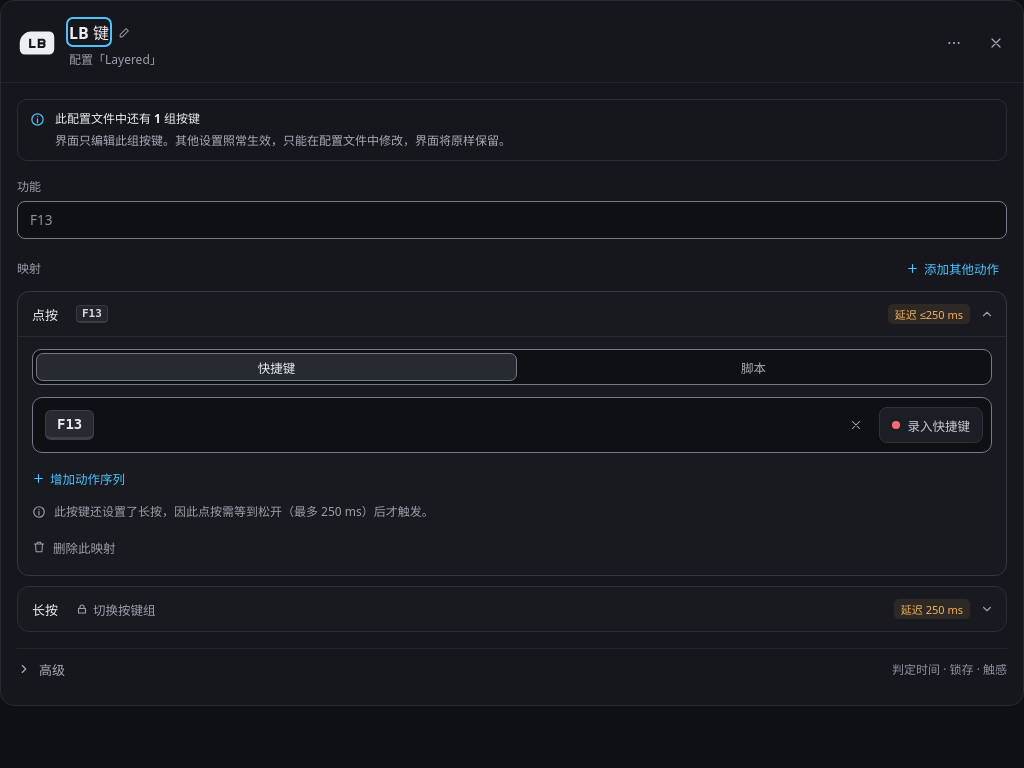
it: removes a layer action from the file only after confirming
What coordinates should you click on to do the following:
click the button "长按 切换按键组 延迟 250 ms"
I would click on:
 (124, 610)
Its box is x1=18 y1=587 x2=1006 y2=631.
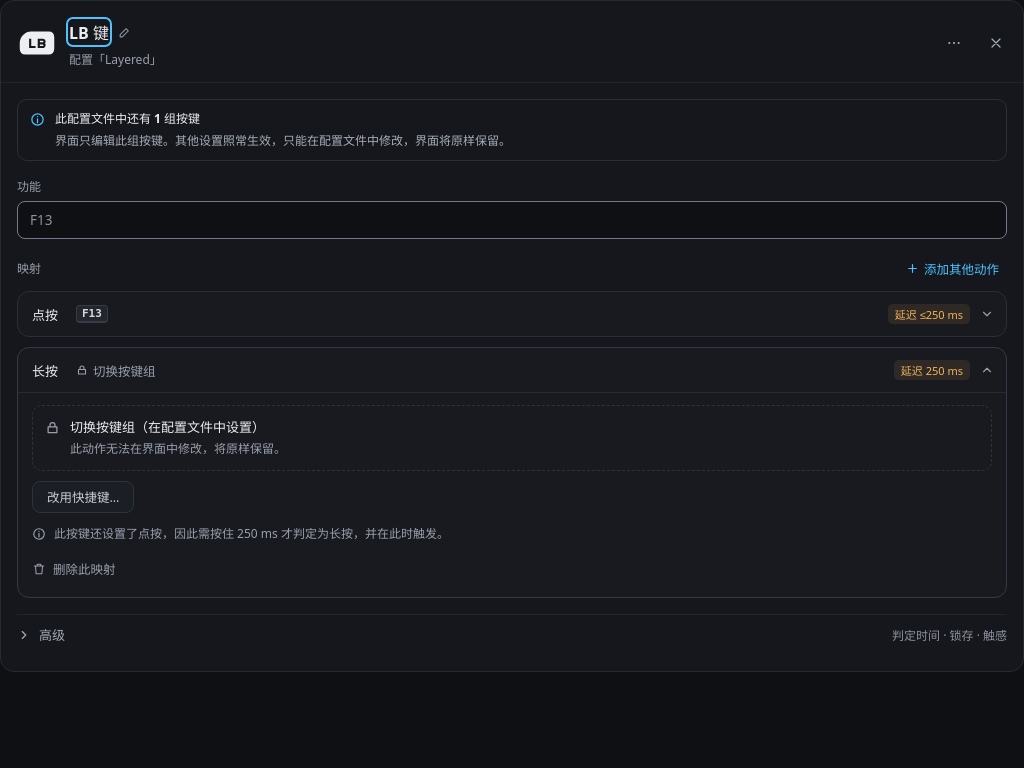
What coordinates should you click on to do the following:
click the button "删除此映射"
I would click on:
 (74, 569)
Its box is x1=24 y1=555 x2=124 y2=583.
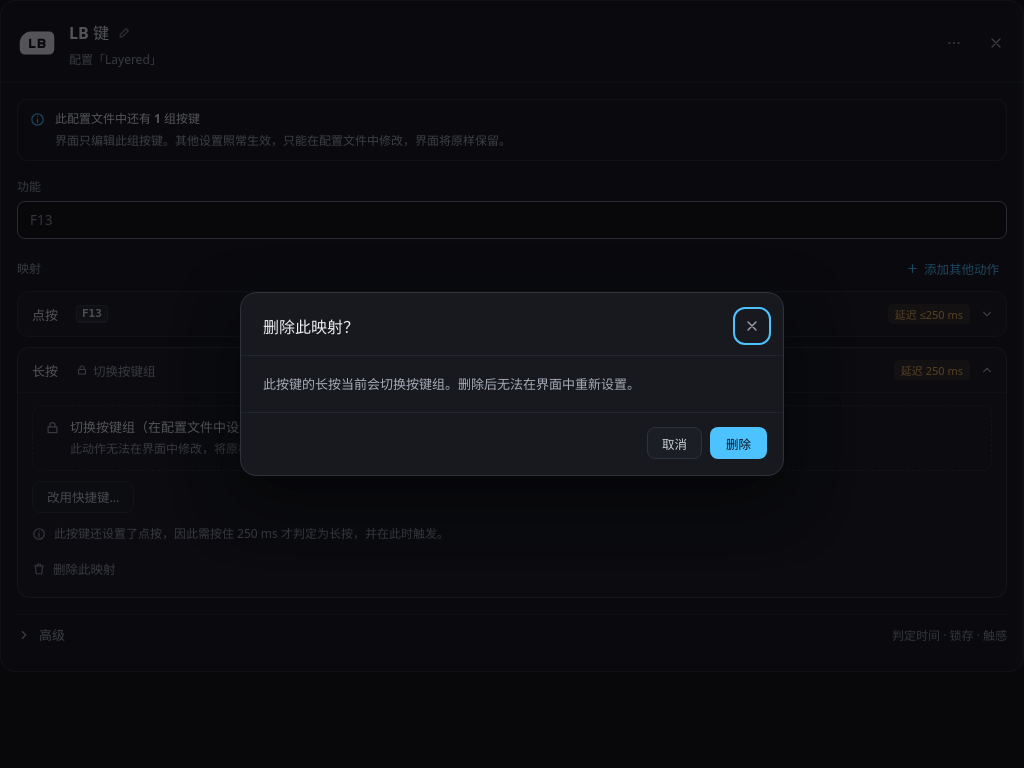
What coordinates should you click on to do the following:
click the button "删除"
I would click on:
 (738, 443)
Its box is x1=710 y1=427 x2=767 y2=459.
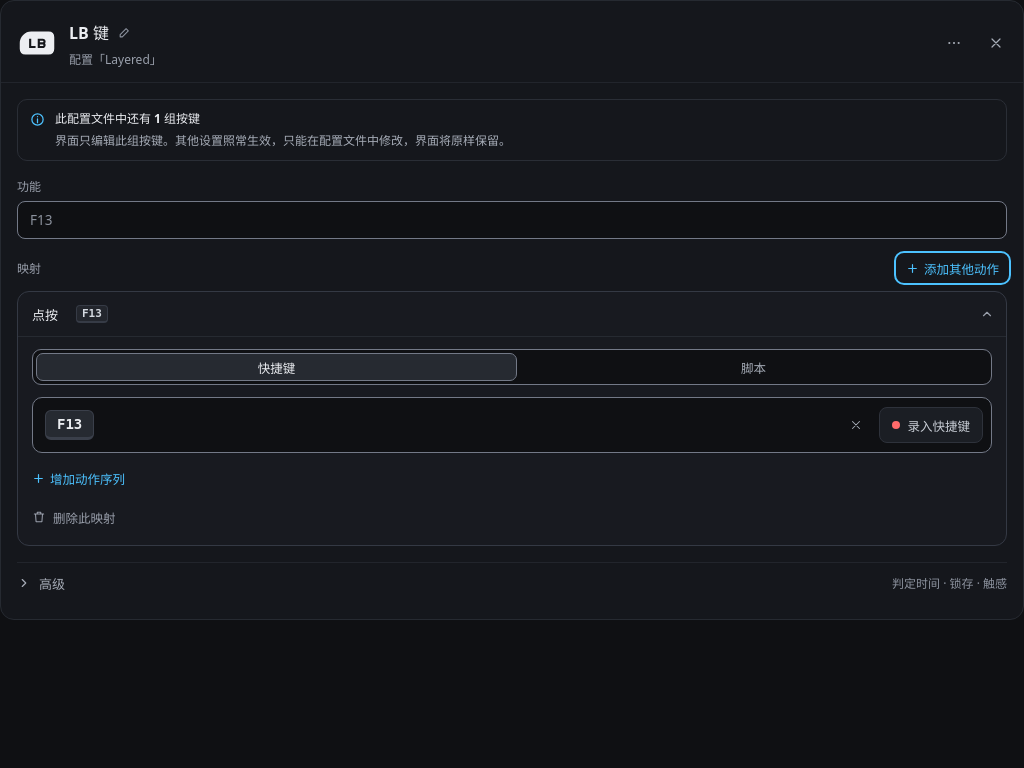
Expected: the dialog is gone
